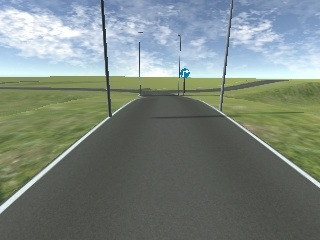turn_right_sign: (178, 67, 190, 79)
